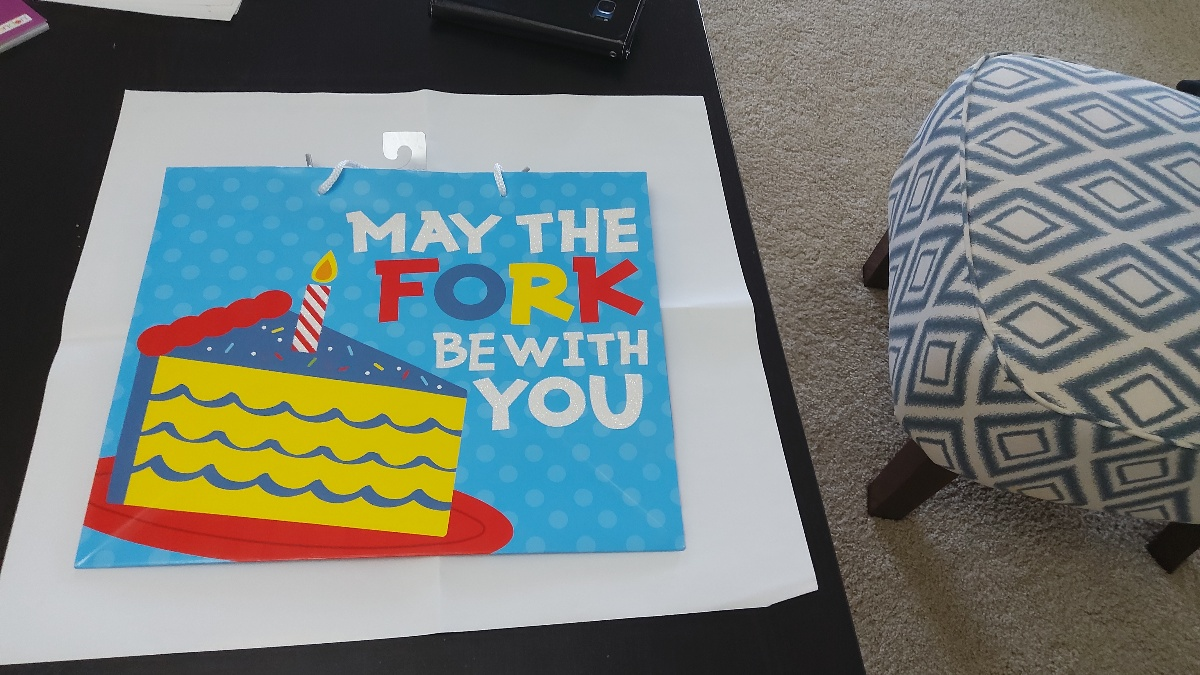paper_bag: (167, 172, 644, 548)
